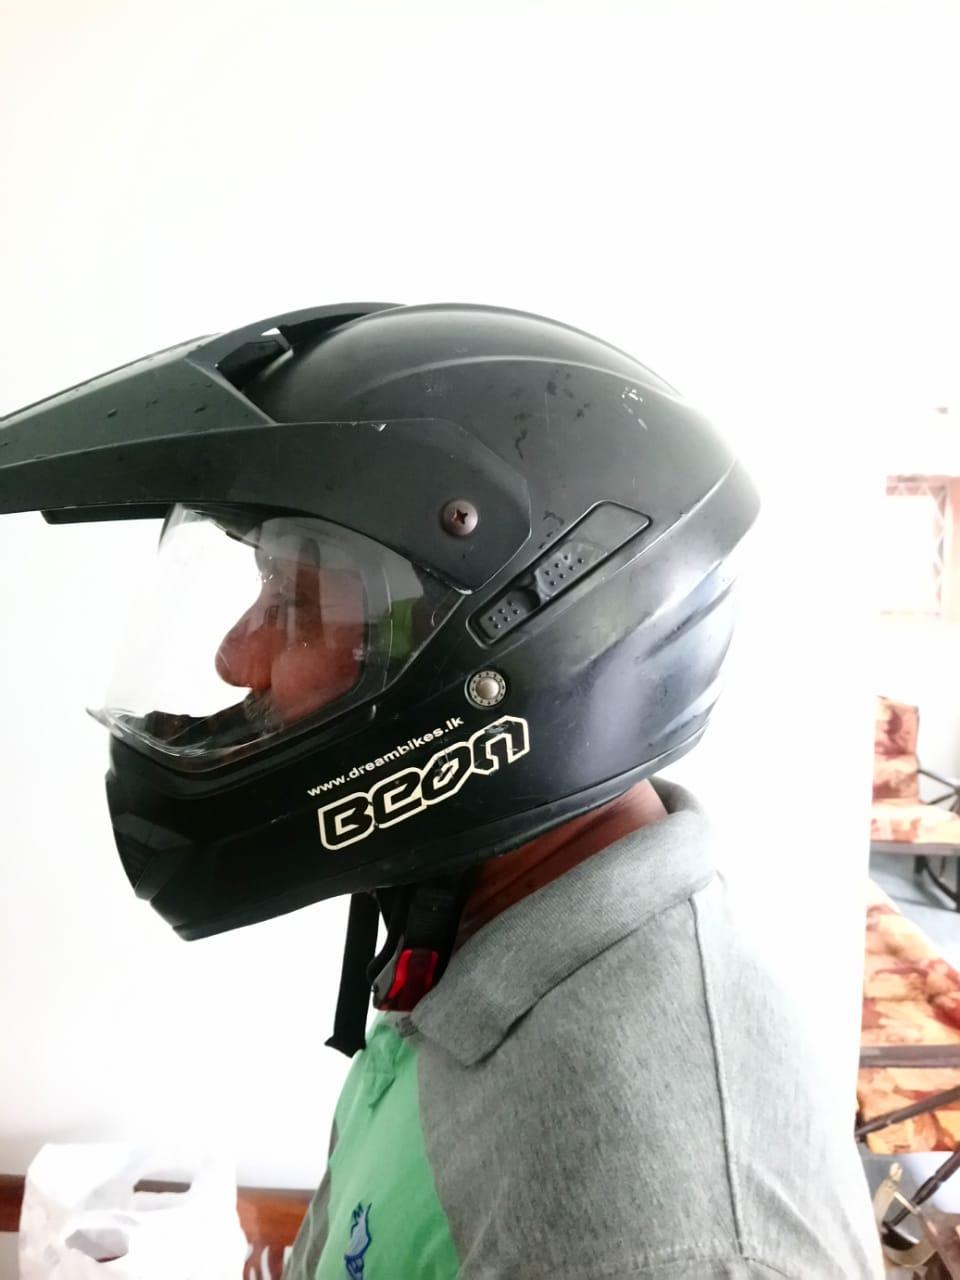helmet: (0, 296, 758, 944)
